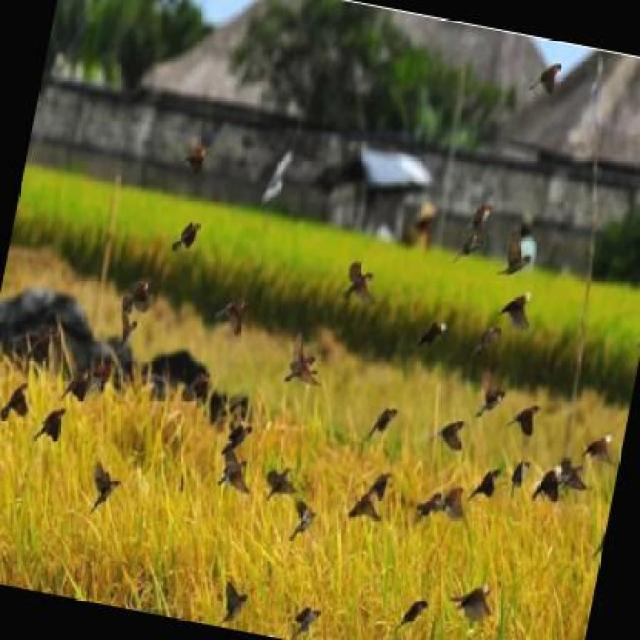Bird: (282, 336, 323, 387), (90, 459, 123, 515), (450, 582, 494, 622), (476, 368, 506, 420), (495, 236, 533, 277), (341, 259, 376, 303), (218, 580, 249, 627), (220, 450, 251, 497), (288, 497, 319, 543), (501, 290, 533, 332), (0, 380, 31, 423), (32, 407, 68, 443), (528, 60, 563, 97), (467, 467, 502, 503), (530, 467, 564, 503), (506, 403, 541, 437), (264, 466, 298, 501), (580, 432, 616, 464), (183, 136, 210, 176), (218, 423, 254, 453), (123, 276, 153, 312), (367, 406, 399, 439), (170, 221, 203, 253), (440, 483, 467, 522), (220, 298, 247, 337), (559, 458, 588, 493), (347, 495, 383, 523), (451, 232, 482, 264), (59, 372, 91, 403), (398, 599, 430, 629), (292, 605, 322, 637), (437, 418, 466, 451), (417, 319, 449, 348), (465, 202, 494, 232), (416, 490, 443, 522), (476, 323, 503, 354), (367, 471, 394, 500), (509, 458, 528, 496), (120, 314, 140, 346)
